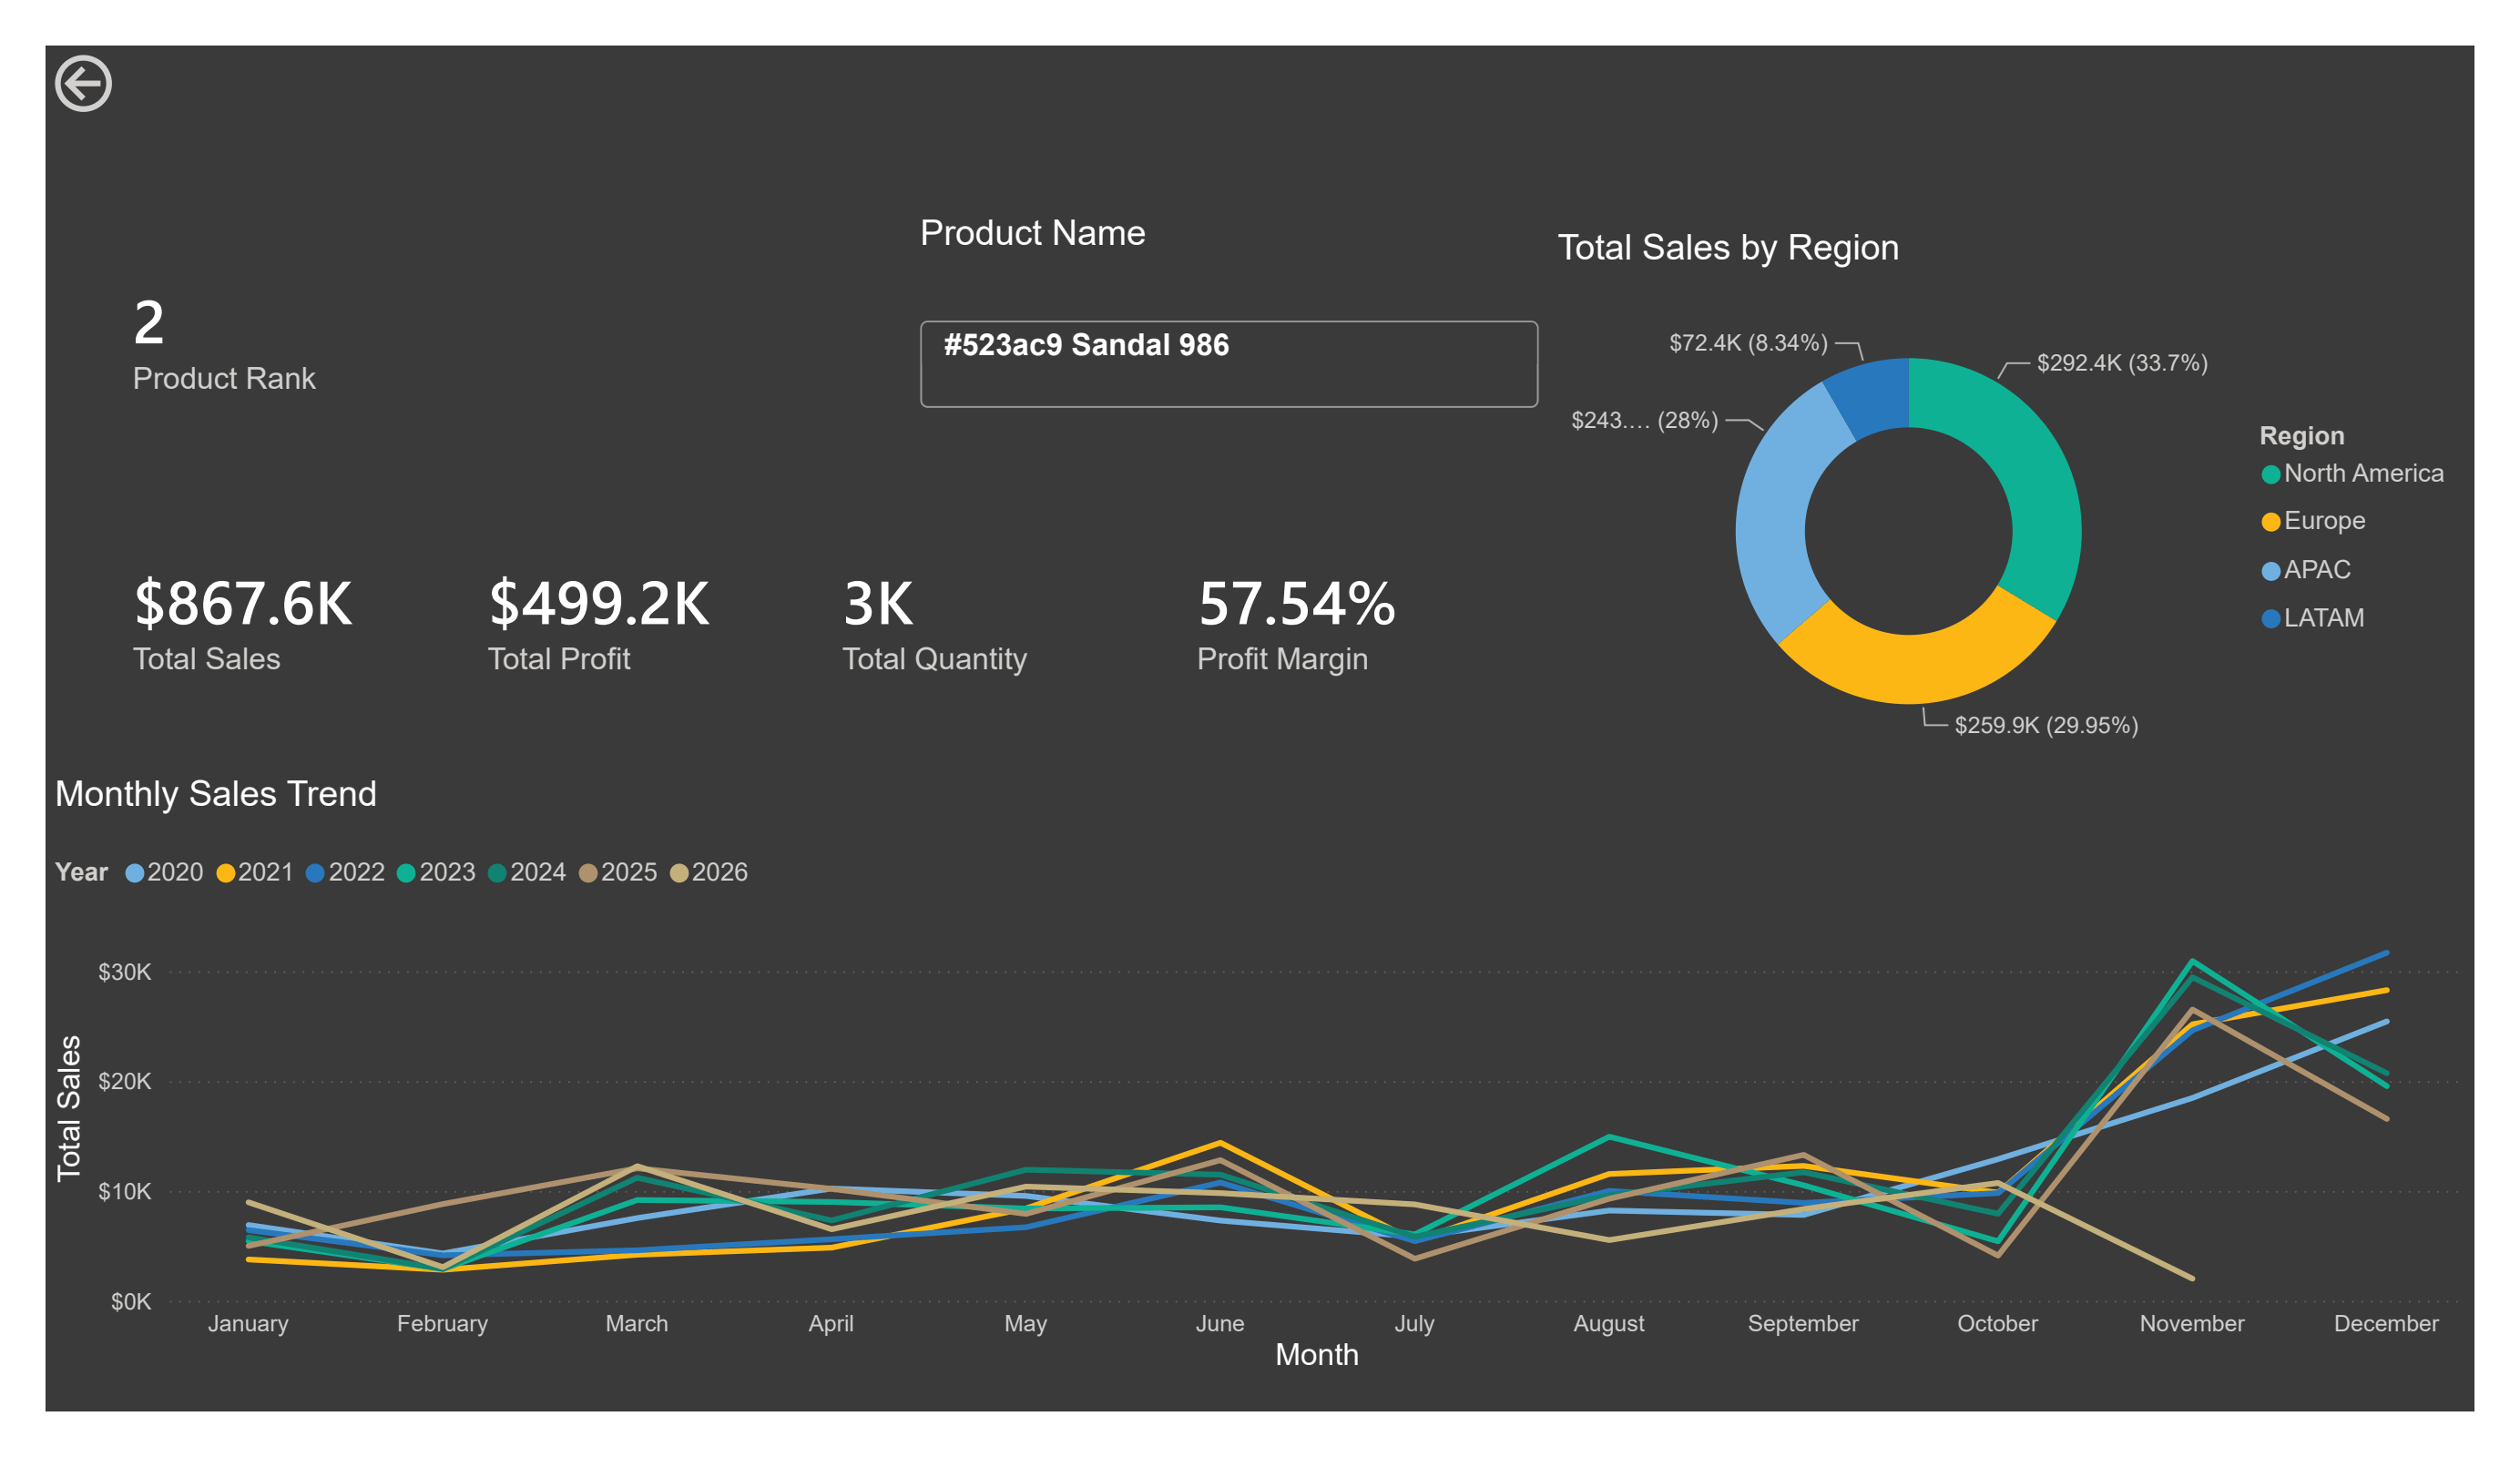

What the dashboard file says about the page in this screenshot:
{"tool":"powerbi","page":{"name":"2. Product Drill-Through","canvas":[1280,720],"ordinal":2},"visuals":[{"type":"actionButton","box":[0,0,100,40],"z":0},{"type":"cardVisual","title":"Product Name","fields":{"Rows":["Dim_Product.Product_Name"]},"box":[456,88,336,128],"z":1000},{"type":"cardVisual","fields":{"Data":["_Measures.Total Sales","_Measures.Total Profit","_Measures.Total Quantity","_Measures.Profit Margin"]},"box":[16,224,776,152],"z":2000},{"type":"lineChart","title":"Monthly Sales Trend","fields":{"Y":["_Measures.Total Sales"],"Category":["Date_Table.Month"],"Series":["Date_Table.Year"]},"box":[0,384,1280,320],"z":3000},{"type":"donutChart","fields":{"Category":["Fact_Sales.Region"],"Y":["_Measures.Total Sales"]},"box":[792,96,488,288],"z":4000},{"type":"cardVisual","fields":{"Data":["_Measures.Product Rank"]},"box":[16,88,440,128],"z":5000}]}

Visuals, with their boxes on the page's 1280x720 design canvas (x1, y1, x2, y2). These are canvas units, not pixel positions in the 2520x1457 screenshot, which may show the page scaled, cropped or inside an application window:
actionButton: (0,0,100,40)
"Product Name" cardVisual: (456,88,792,216)
cardVisual - _Measures.Total Sales x _Measures.Total Profit: (16,224,792,376)
"Monthly Sales Trend" lineChart: (0,384,1280,704)
donutChart - Fact_Sales.Region x _Measures.Total Sales: (792,96,1280,384)
cardVisual - _Measures.Product Rank: (16,88,456,216)
